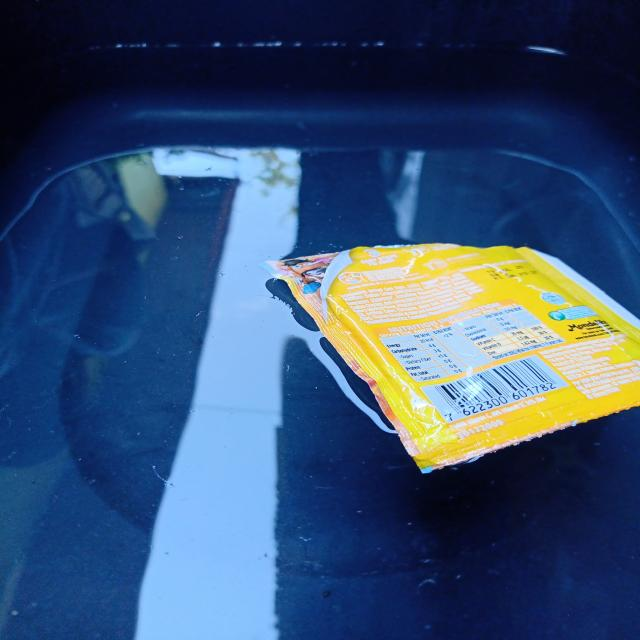Plastic Wrapper: (256, 231, 640, 488)
